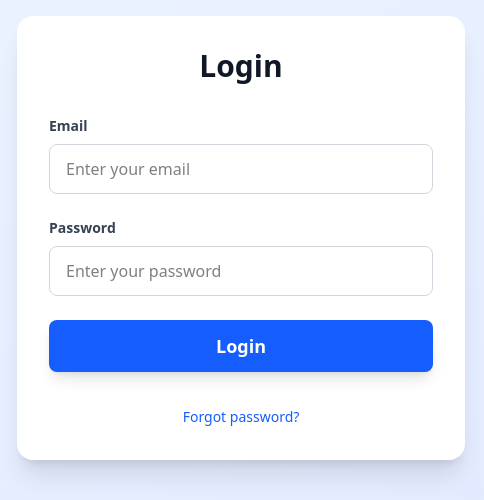
Test: LoginPage Integration › shows welcome page after successful login
In the field labelled "Email": {"x": 241, "y": 169} x1=49 y1=144 x2=433 y2=194, type "test@example.com"
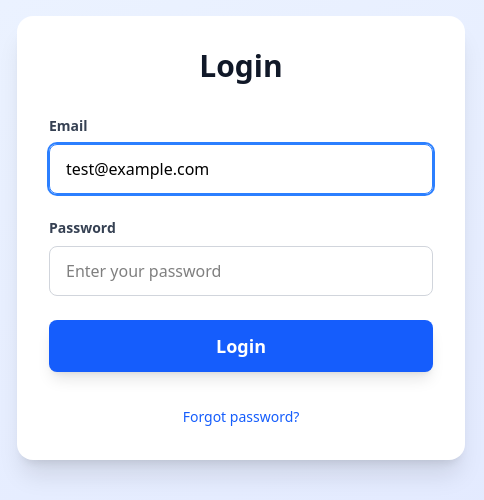
In the password field labelled "Password": {"x": 241, "y": 271} x1=49 y1=246 x2=433 y2=296, type "Test1234!"
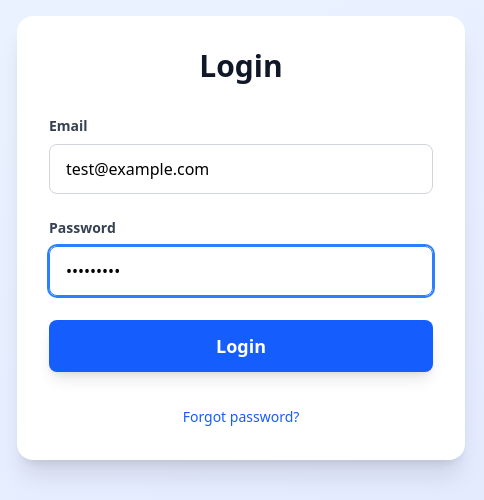
Click the button "Login": {"x": 241, "y": 346} x1=49 y1=320 x2=433 y2=372
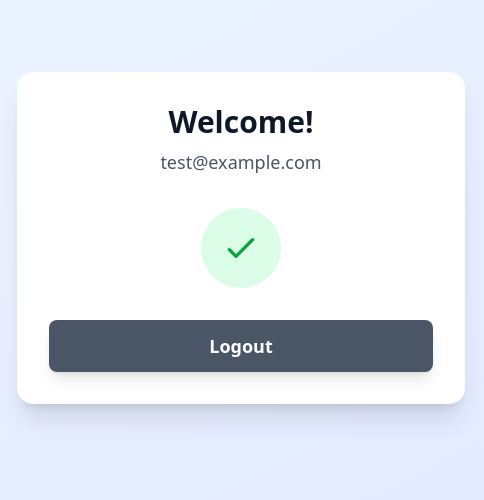
Check: the heading "Welcome!" is shown, box x1=168 y1=101 x2=314 y2=142
Check: the text "test@example.com" is shown, box x1=160 y1=150 x2=322 y2=174
